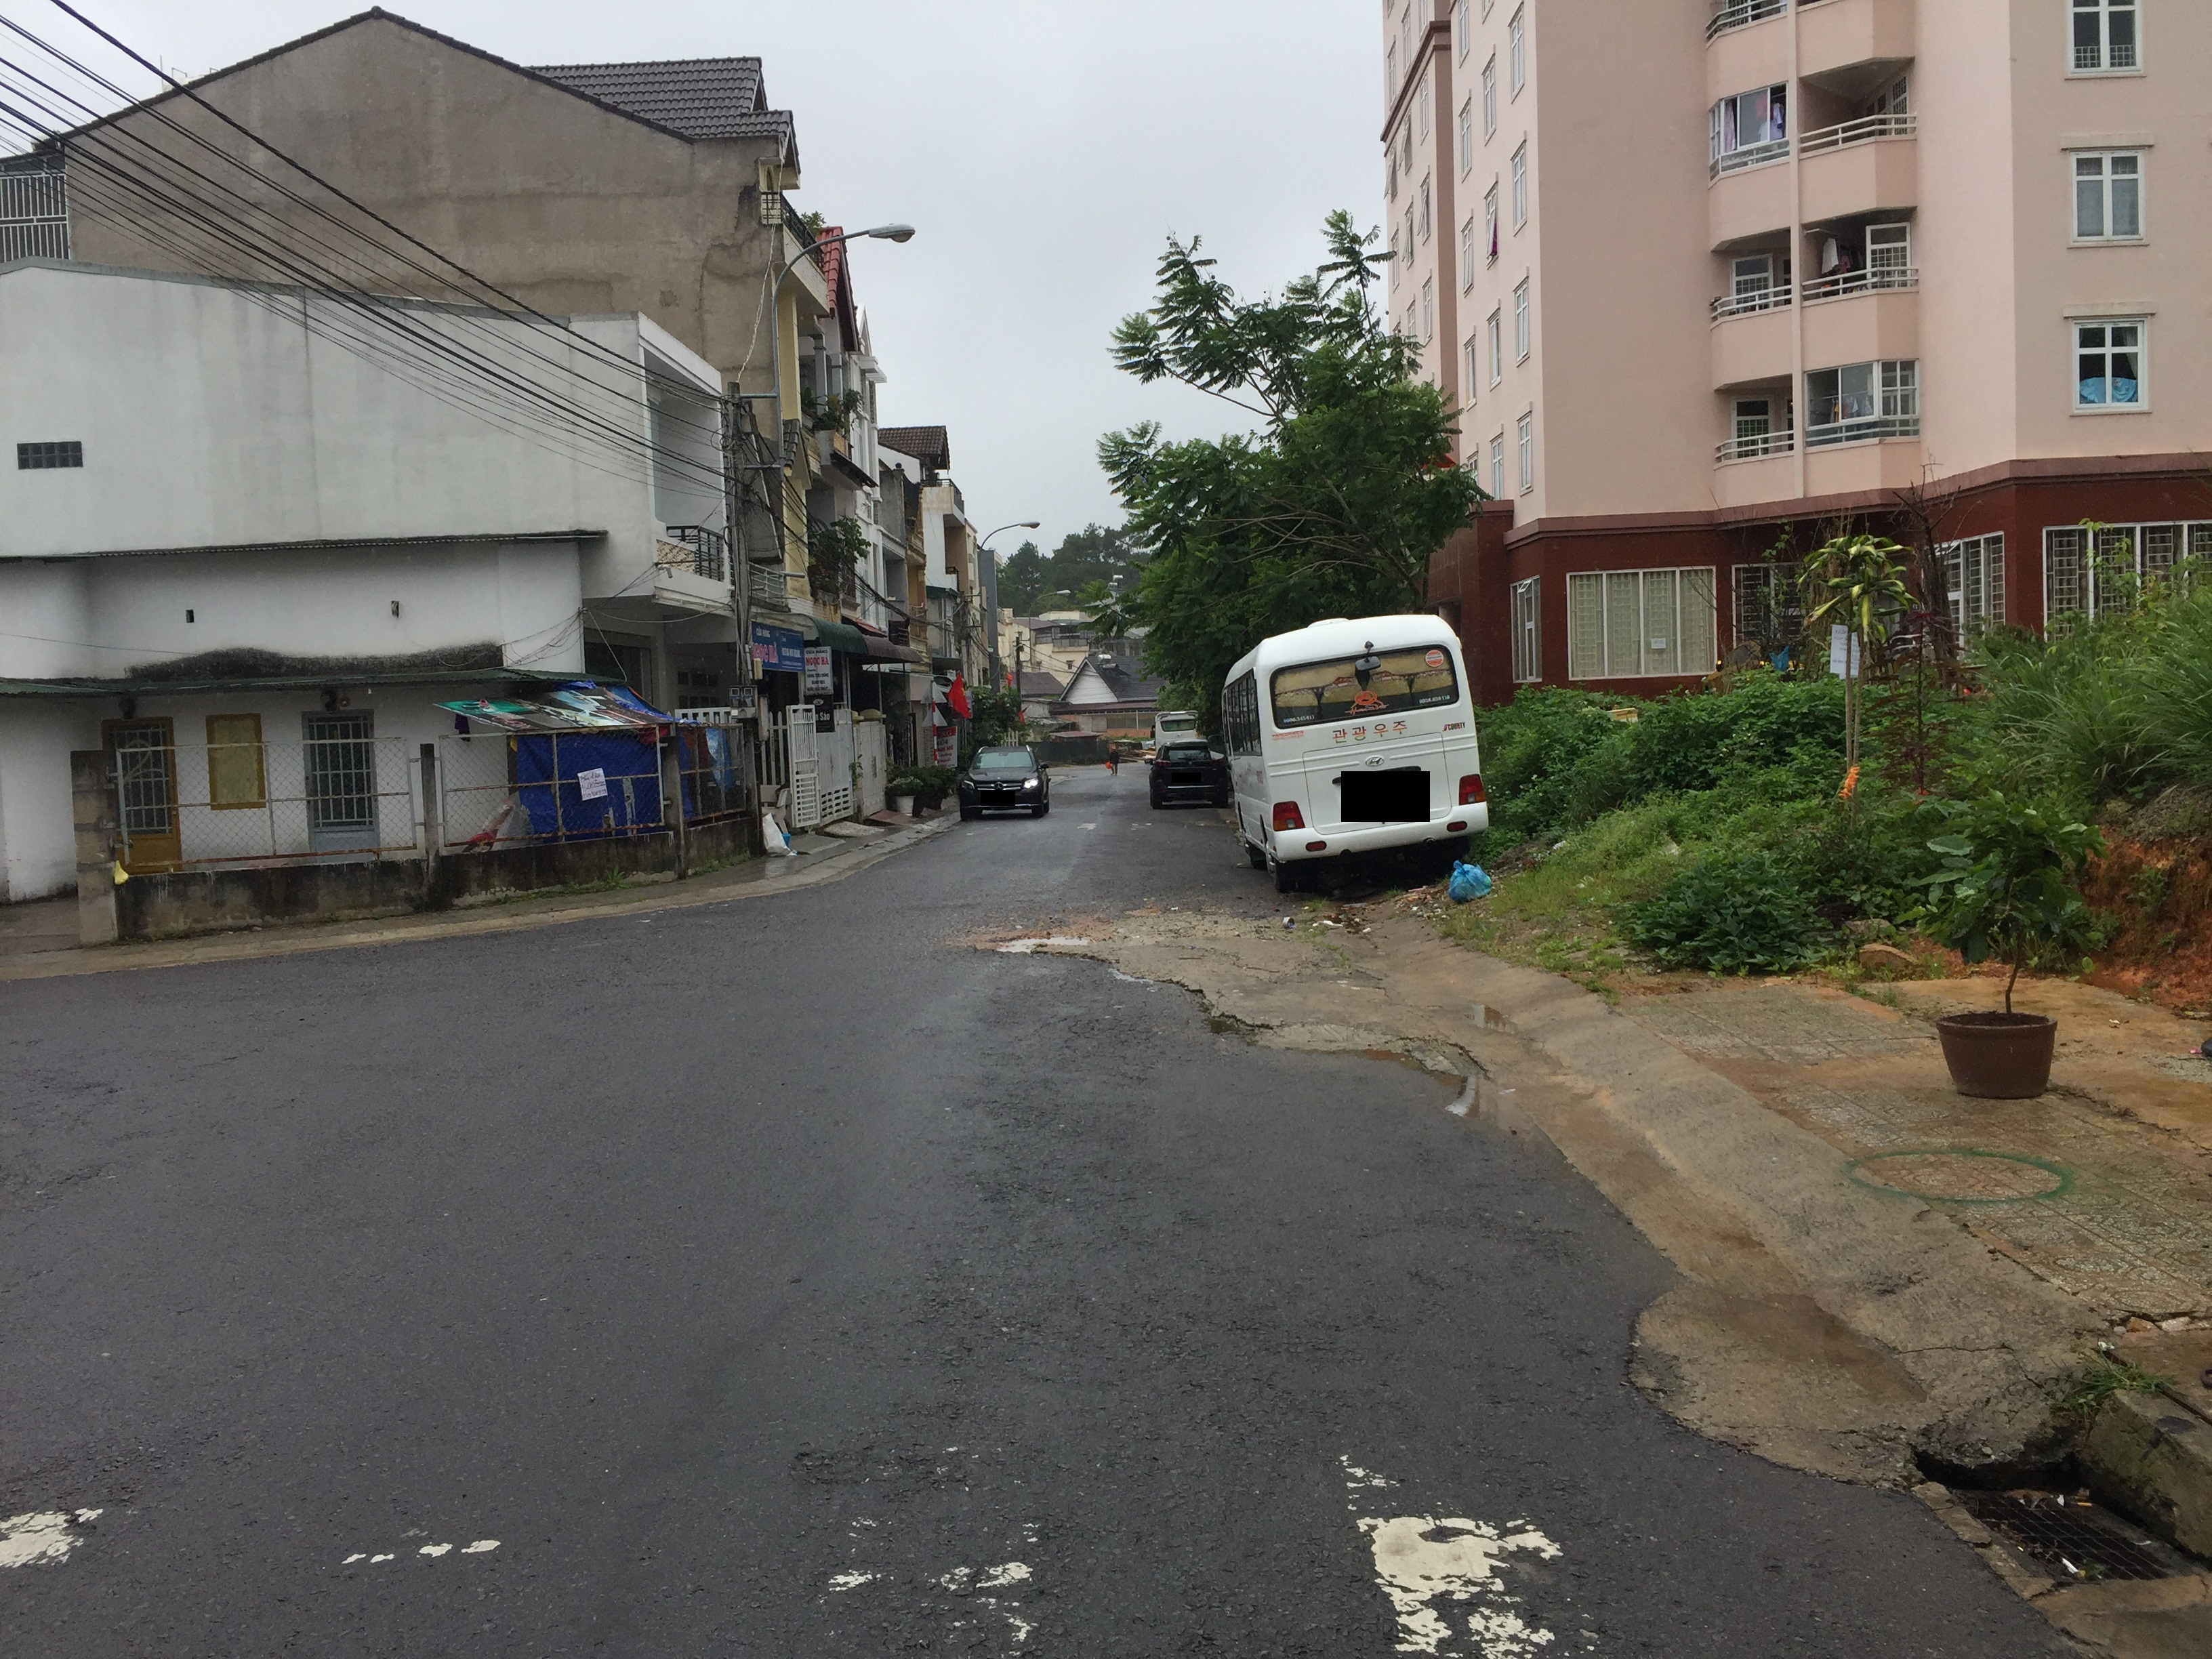hole: (975, 934, 1099, 958), (1202, 1014, 1268, 1039)
